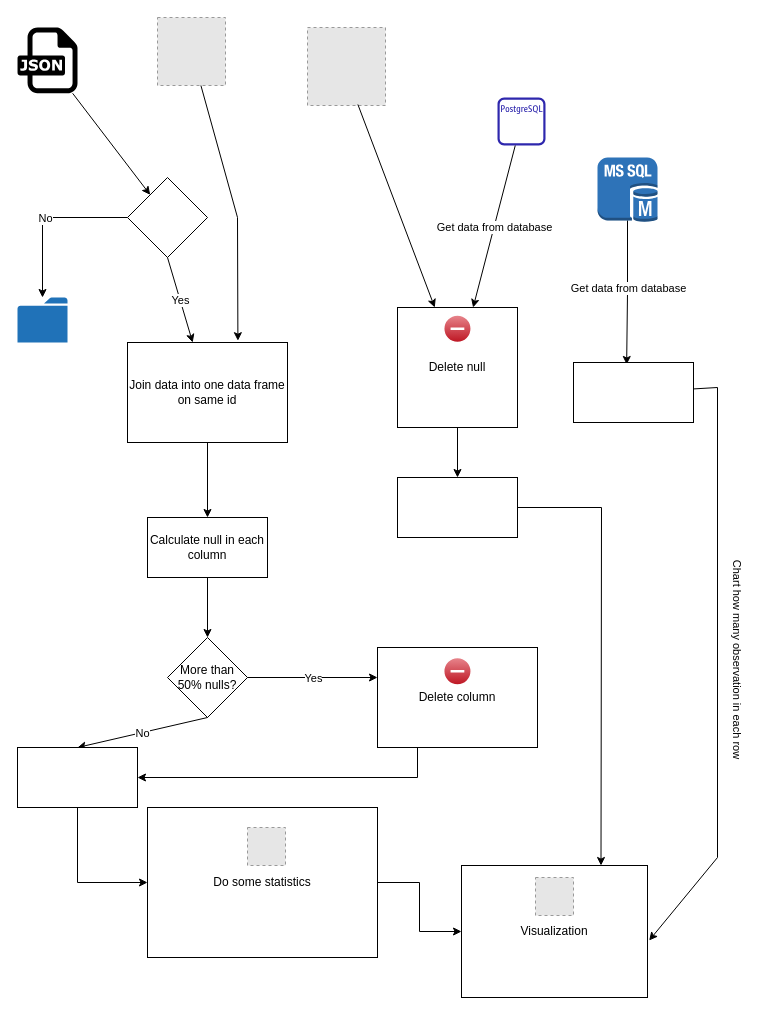
Image size: 761x1015. Some labels were removed from this diagram. Grey dashed boxes stand in for pictures. The centre of each missing label's shape, as x and y in pixels:
Add new column which count number of observation in each row: point (633, 392)
Calculate correlations between variables: point (457, 507)
fill NA with median: point (77, 777)
Validation schema?: point (167, 217)
